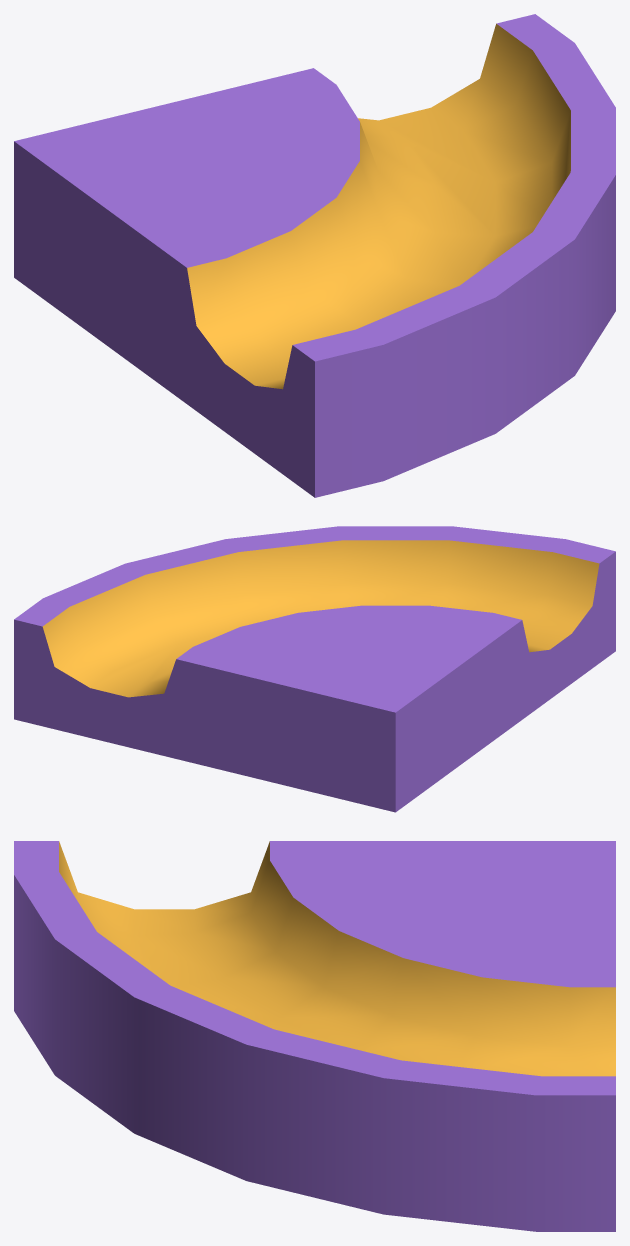
Rendered from kenney-marble-curve-solid.glb.
3 views of the same model, one above another, from view 1: azimuth 30°, elevation 25°; view 2: azimuth 150°, elevation 25°; view 3: azimuth 270°, elevation 25° (orthographic). The views are drawn at different scales.
Visible parts, largest first — view 1: curve-solid; view 2: curve-solid; view 3: curve-solid.
Part boxes in pixels (bbox=[...]): curve-solid: bbox=[14, 14, 615, 497]; curve-solid: bbox=[14, 526, 615, 812]; curve-solid: bbox=[14, 841, 615, 1231].
Bounding box in the file's own units: 2 × 0.5001 × 2.
1 material, 1 textured.
